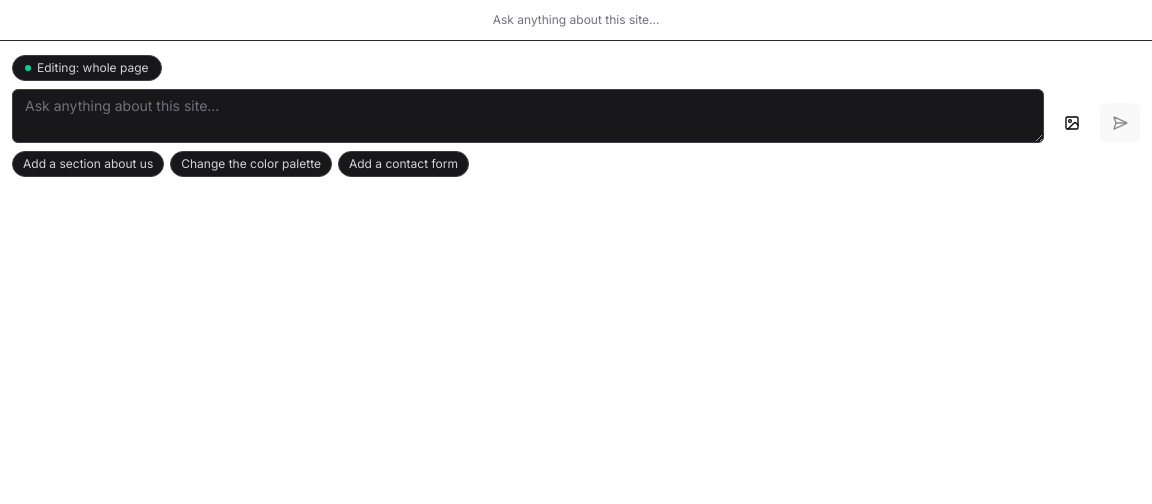
Test: RightSidebarAiChat › Retry on network_error re-sends the last prompt
Type "retry-me" into the text box with test id "composer-textarea". click: (528, 116)
box: [12,89,1044,143]
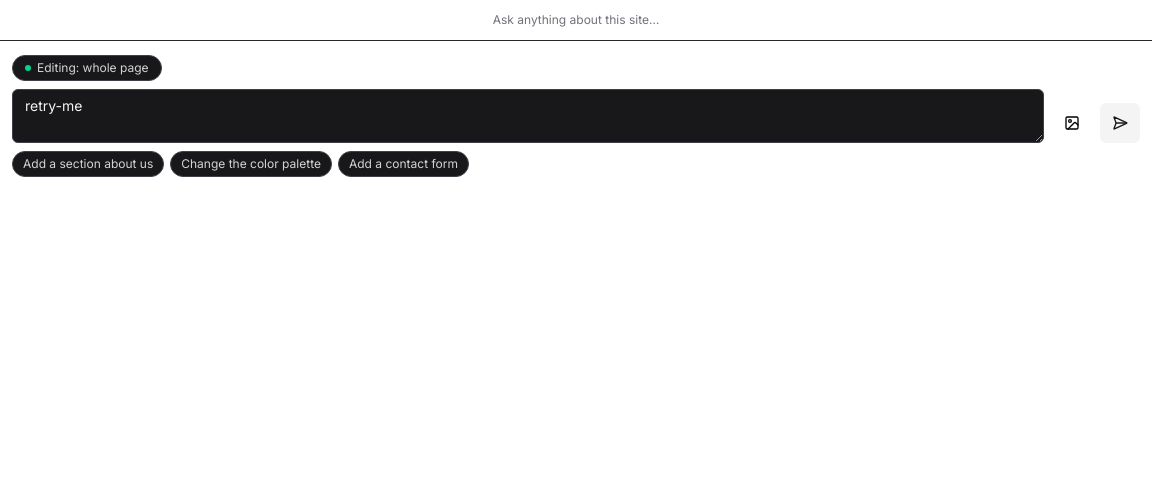
Click the button named "Send". click: click(1120, 123)
box: [1100,103,1140,143]
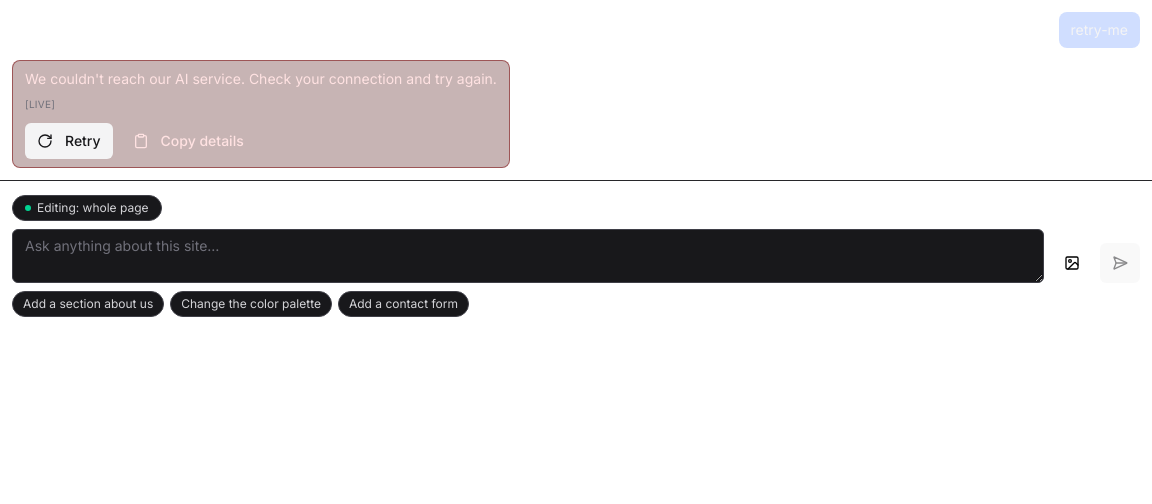
Expected: the text box with test id "composer-textarea" is shown, [12,229,1044,283]
Expected: the button with test id "retry-button" is shown
Click the button with test id "retry-button". click: click(69, 141)
box: [25,123,113,159]
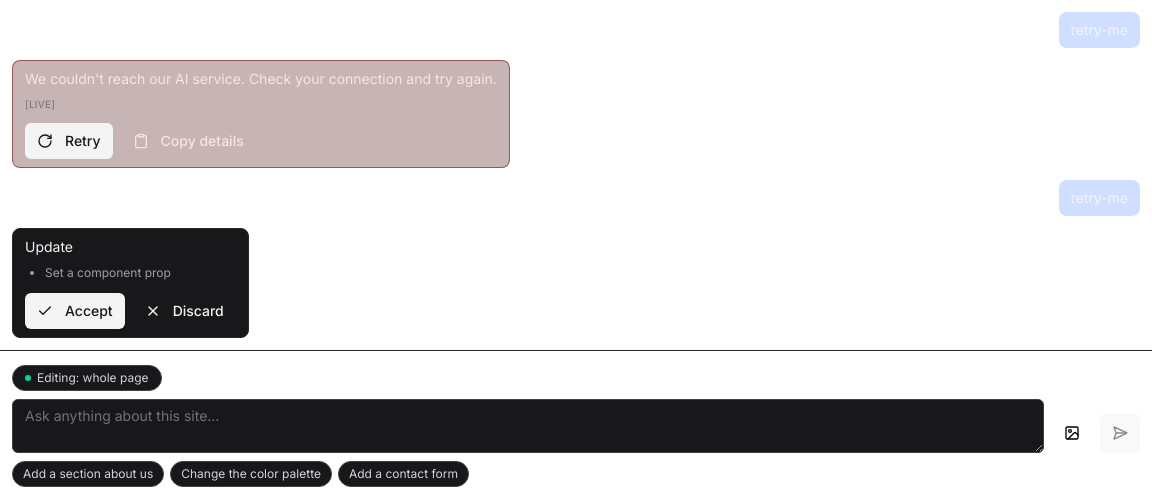
Expected: the element with test id "assistant-ok" is shown, [12,228,249,338]
